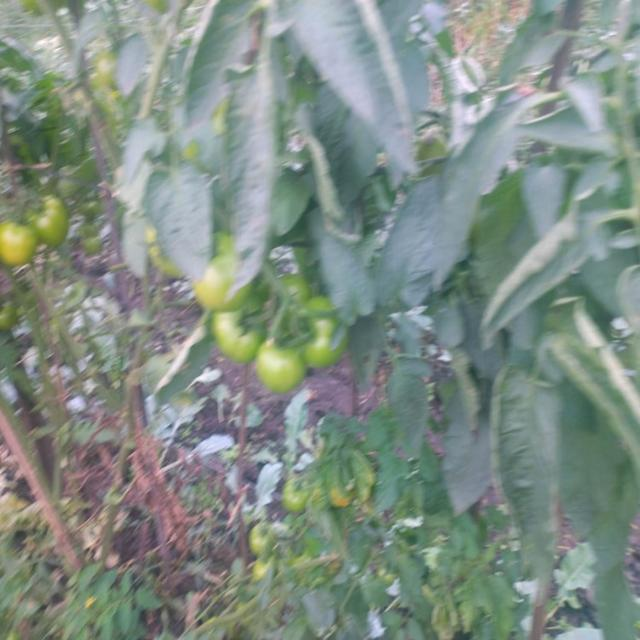tomato: (256, 333, 314, 384), (30, 195, 73, 259), (293, 306, 335, 367), (213, 313, 261, 360), (195, 263, 240, 313), (1, 220, 39, 274), (284, 478, 316, 518), (244, 521, 275, 550), (101, 50, 121, 89), (82, 234, 108, 262), (251, 558, 272, 584), (288, 276, 303, 302)
